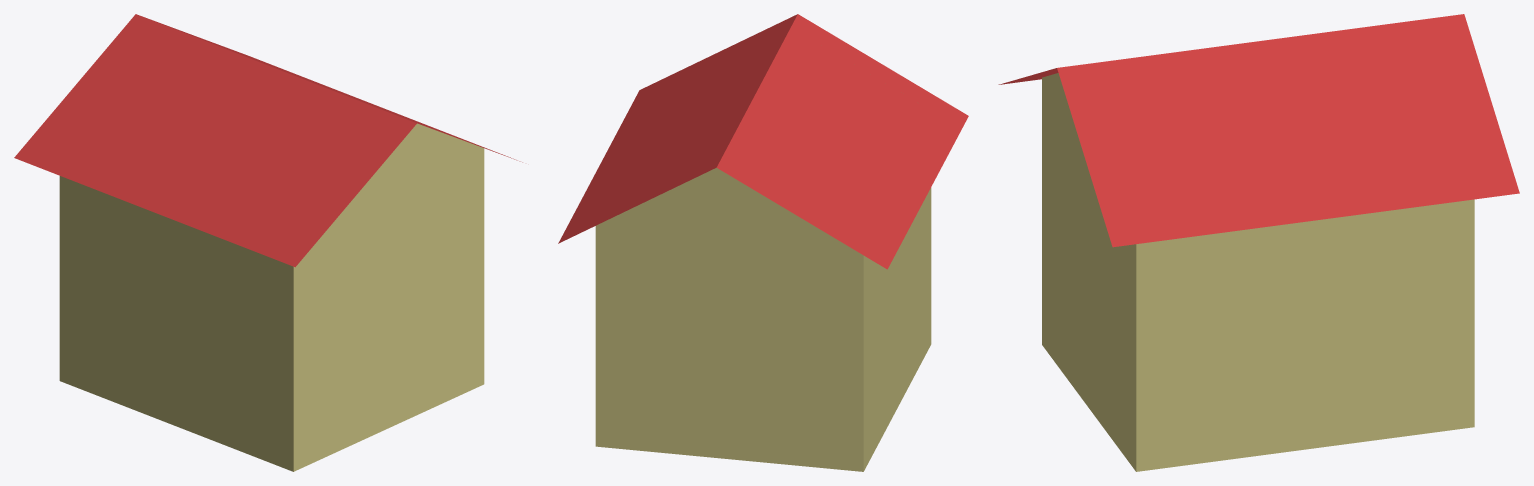
3 views of the same model, side by side, from view 1: azimuth 30°, elevation 25°; view 2: azimuth 150°, elevation 25°; view 3: azimuth 270°, elevation 25° (orthographic). The views are drawn at different scales.
Size of the model in its own units: 10.34 by 10.89 by 8.
